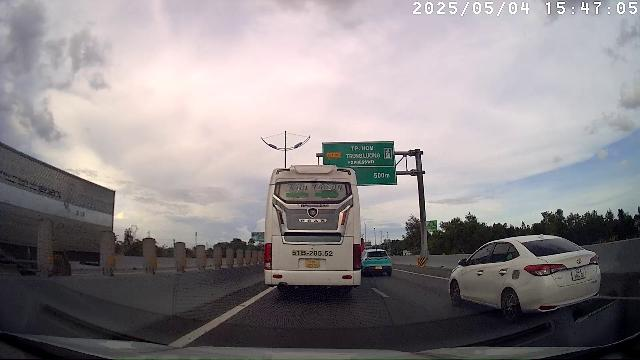438-ket-thuc-duong-cao-toc: (383, 146, 393, 160)
